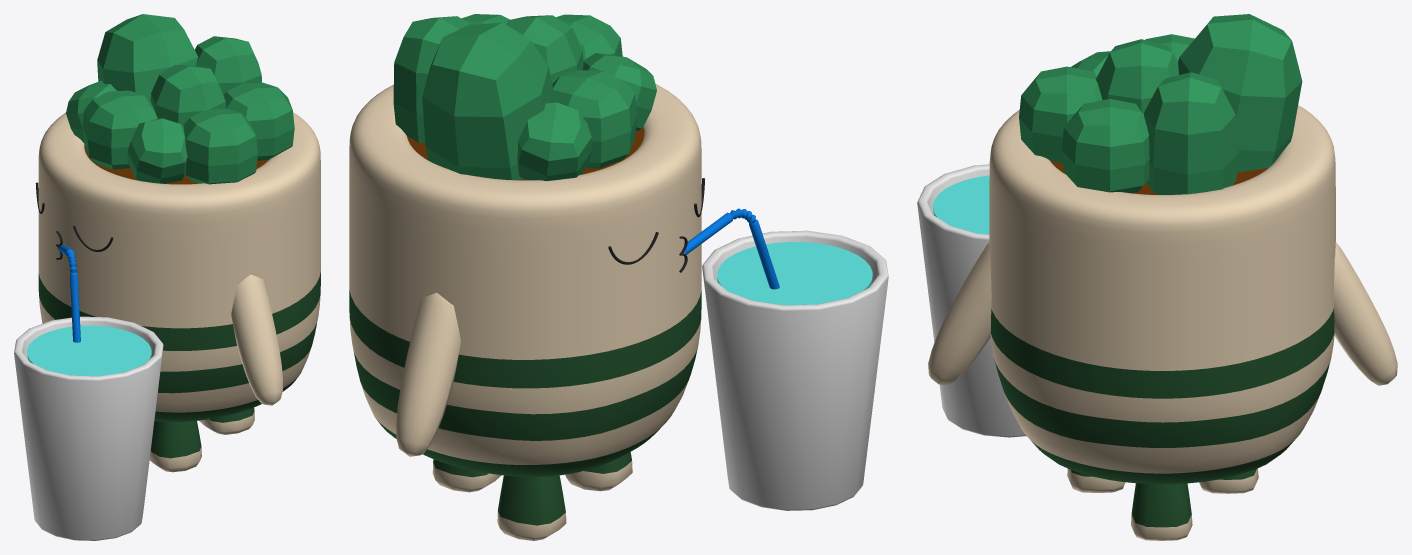
The model's file is vegesims-drink3.glb.
3 views of the same model, side by side, from view 1: azimuth 30°, elevation 25°; view 2: azimuth 150°, elevation 25°; view 3: azimuth 270°, elevation 25° (orthographic). The views are drawn at different scales.
Parts seen in each view (by area): view 1: body, hair, glass, drink5, arm-left, leg-left, leg-back, cannuccia, ground; view 2: body, hair, glass, drink5, arm-right, leg-right, cannuccia, leg-left, leg-back; view 3: body, hair, glass, arm-right, arm-left, leg-back, drink5, leg-right, leg-left.
Part boxes in pixels (left/top/right/bottom): body: left=38, top=112, right=320, bottom=422; hair: left=66, top=14, right=294, bottom=184; glass: left=14, top=316, right=163, bottom=540; drink5: left=27, top=325, right=151, bottom=376; arm-left: left=231, top=274, right=282, bottom=405; leg-left: left=149, top=421, right=201, bottom=472; leg-back: left=199, top=407, right=254, bottom=434; cannuccia: left=59, top=244, right=80, bottom=342; ground: left=84, top=145, right=268, bottom=184; body: left=349, top=83, right=701, bottom=477; hair: left=393, top=14, right=656, bottom=181; glass: left=702, top=230, right=888, bottom=510; drink5: left=717, top=242, right=872, bottom=305; arm-right: left=396, top=293, right=460, bottom=456; leg-right: left=497, top=475, right=566, bottom=540; cannuccia: left=684, top=208, right=779, bottom=289; leg-left: left=565, top=452, right=632, bottom=491; leg-back: left=432, top=459, right=501, bottom=492; body: left=989, top=105, right=1335, bottom=484; hair: left=1019, top=14, right=1302, bottom=194; glass: left=917, top=164, right=1026, bottom=437; arm-right: left=1333, top=242, right=1397, bottom=385; arm-left: left=928, top=242, right=991, bottom=385; leg-back: left=1131, top=483, right=1192, bottom=540; drink5: left=932, top=175, right=989, bottom=234; leg-right: left=1199, top=468, right=1258, bottom=493; leg-left: left=1067, top=469, right=1125, bottom=492.
Size of the model in its own units: 2.77 by 3.08 by 2.76.
